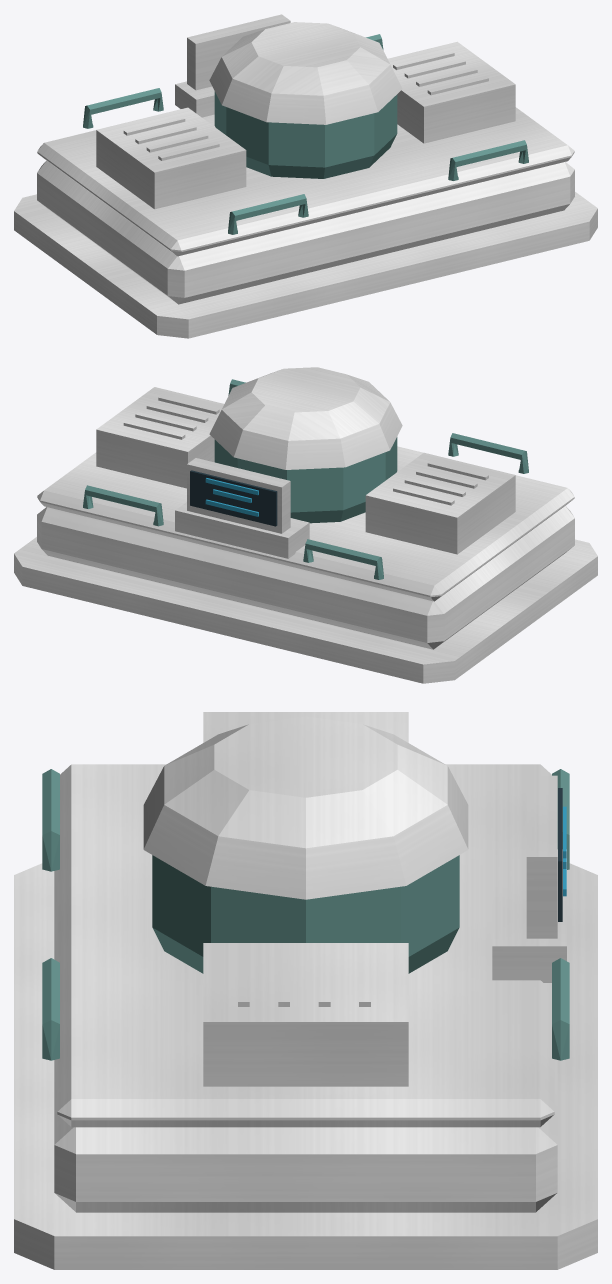
File: gene_assembler.obj
3 renders of one model, top to bottom at view 1: azimuth 30°, elevation 25°; view 2: azimuth 150°, elevation 25°; view 3: azimuth 270°, elevation 25°, orthographic. The views are drawn at different scales.
Visible parts, largest first — view 1: gene_assembler; view 2: gene_assembler; view 3: gene_assembler.
Boxes of the visible parts, x1,y1,x2,y2 form: gene_assembler: (14, 14, 597, 338); gene_assembler: (14, 367, 597, 683); gene_assembler: (14, 712, 597, 1269).
Bounding box in the file's own units: 2.88 × 1.15 × 1.88.
